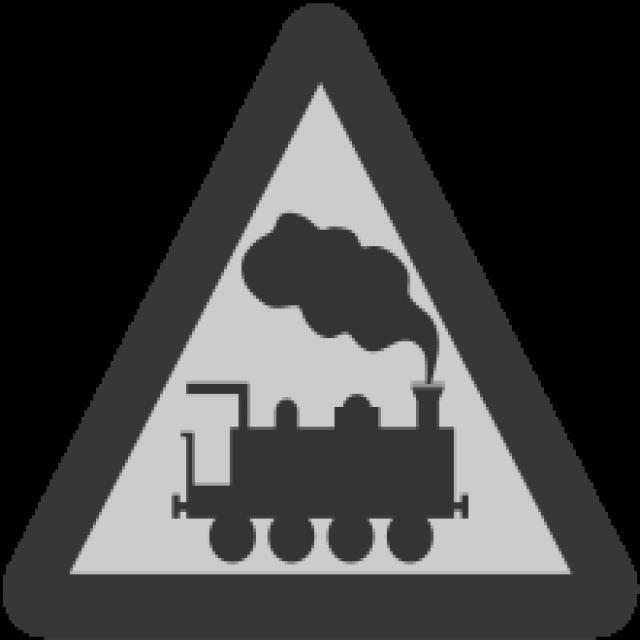unguarded level crossing: (37, 36, 600, 620)
